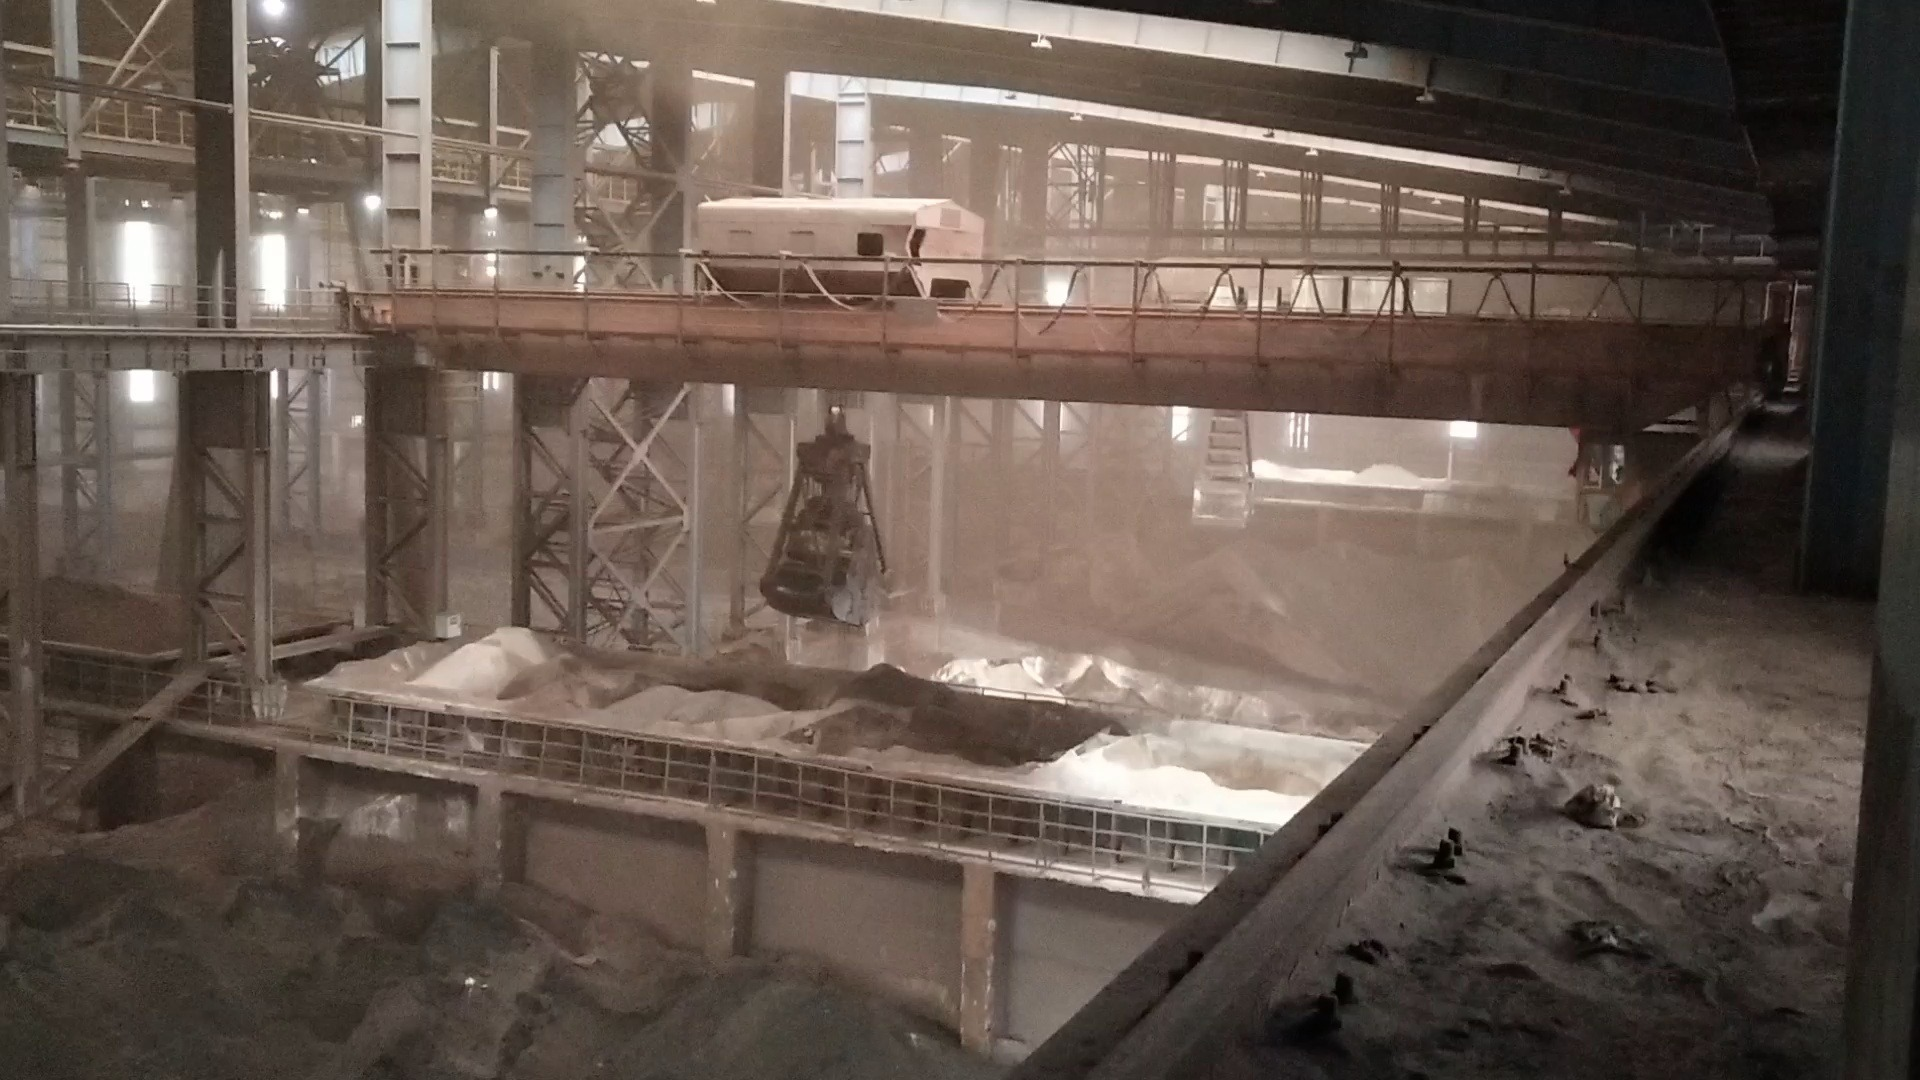grab: (753, 404, 903, 632), (1176, 401, 1265, 533)
